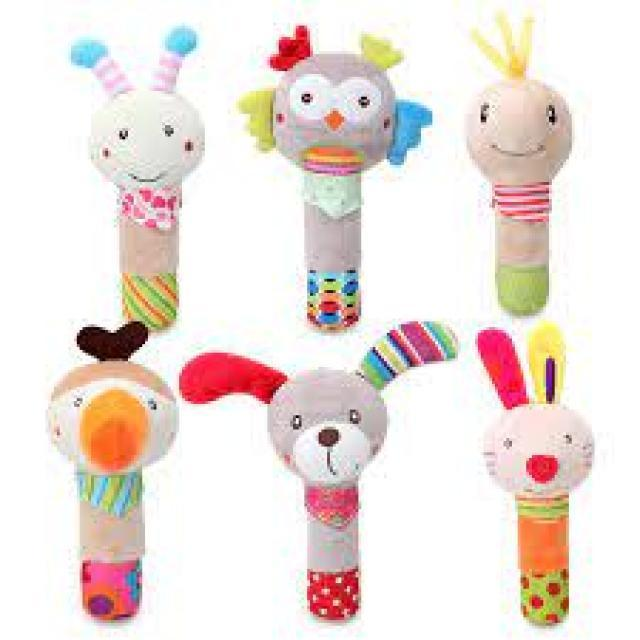soft-toy: (50, 29, 205, 622), (181, 322, 459, 622), (239, 26, 432, 330), (271, 27, 432, 331), (74, 31, 205, 331), (476, 324, 594, 626), (467, 19, 572, 317)
